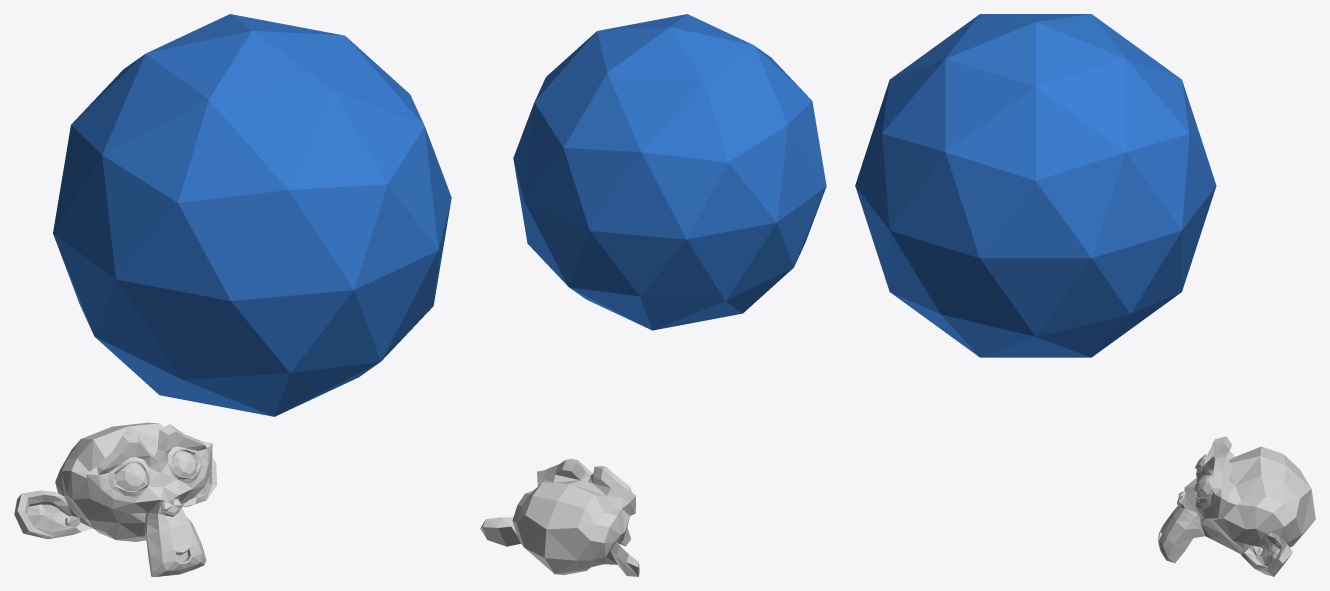
File: texture_02.dae
3 renders of one model, left to right at view 1: azimuth 30°, elevation 25°; view 2: azimuth 150°, elevation 25°; view 3: azimuth 270°, elevation 25°, orthographic. The views are drawn at different scales.
Visible parts, largest first — view 1: Icosphere, Suzanne; view 2: Icosphere, Suzanne; view 3: Icosphere, Suzanne.
Part boxes in pixels (left/top/right/bottom): Icosphere: left=53, top=14, right=451, bottom=416; Suzanne: left=14, top=422, right=216, bottom=576; Icosphere: left=513, top=14, right=826, bottom=330; Suzanne: left=480, top=458, right=639, bottom=576; Icosphere: left=855, top=14, right=1216, bottom=357; Suzanne: left=1158, top=436, right=1315, bottom=576.
Bounding box in the file's own units: 1.9 × 2.55 × 3.25.
